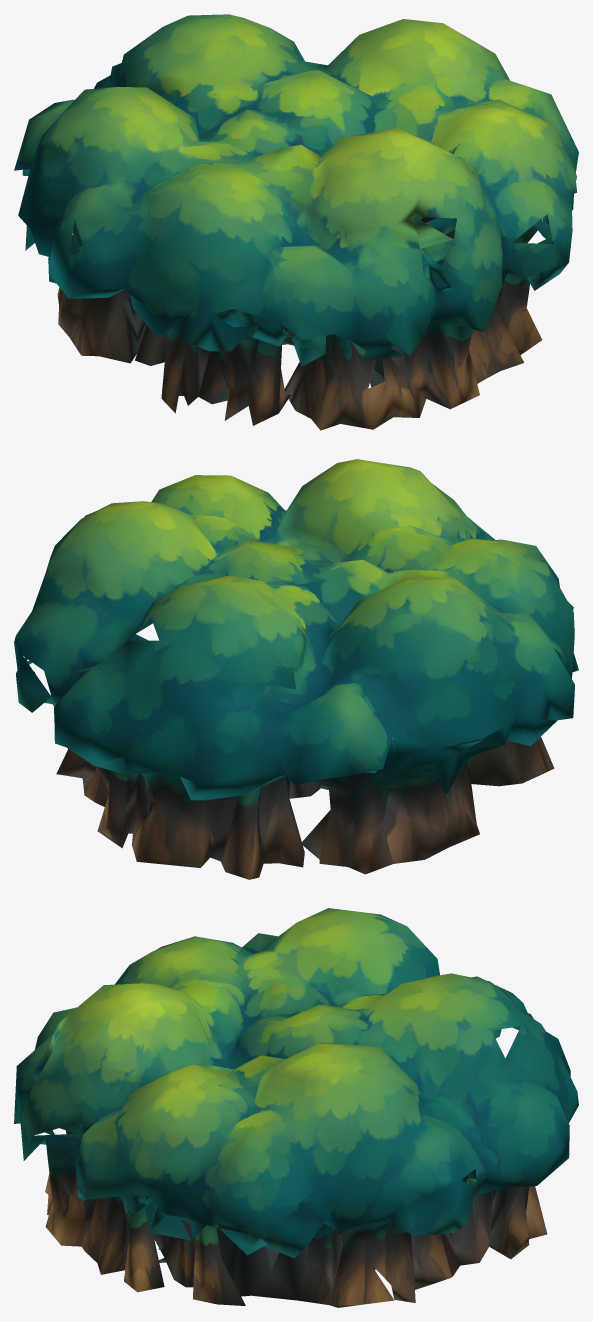
File: rung_tron_m.glb
The picture shows the model from 3 angles, top to bottom: view 1: azimuth 30°, elevation 25°; view 2: azimuth 150°, elevation 25°; view 3: azimuth 270°, elevation 25°; orthographic projection. The views are drawn at different scales.
Visible parts, largest first — view 1: tripo_node_985e7e8c-ac2b-4ea8-b41f-d2fa81ade077; view 2: tripo_node_985e7e8c-ac2b-4ea8-b41f-d2fa81ade077; view 3: tripo_node_985e7e8c-ac2b-4ea8-b41f-d2fa81ade077.
Boxes of the visible parts, x1,y1,x2,y2 form: tripo_node_985e7e8c-ac2b-4ea8-b41f-d2fa81ade077: (14,14,578,430); tripo_node_985e7e8c-ac2b-4ea8-b41f-d2fa81ade077: (14,459,578,879); tripo_node_985e7e8c-ac2b-4ea8-b41f-d2fa81ade077: (14,908,578,1307).
Bounding box in the file's own units: 0.9902 × 0.4651 × 0.9896.
1 material, 1 textured.
